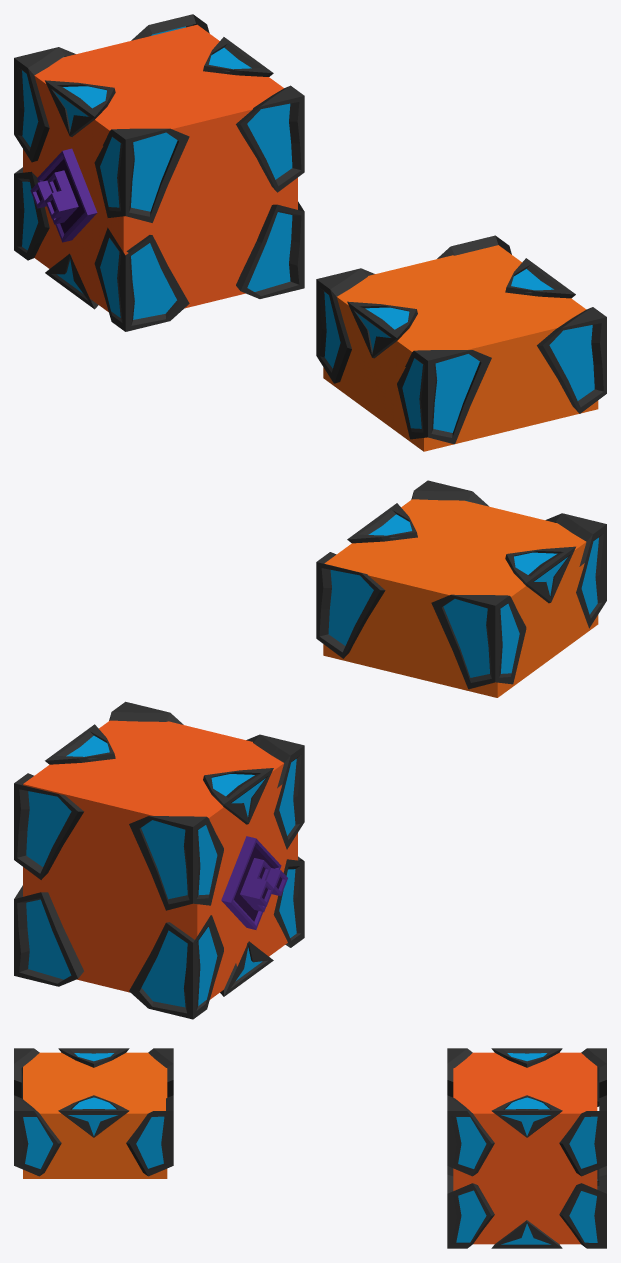
The model's file is cubes.fbx.
The picture shows the model from 3 angles, top to bottom: view 1: azimuth 30°, elevation 25°; view 2: azimuth 150°, elevation 25°; view 3: azimuth 270°, elevation 25°; orthographic projection. The views are drawn at different scales.
Visible parts, largest first — view 1: Cube, Cube.008, Cube.001, Cube.003, Cube.010; view 2: Cube, Cube.008, Cube.001, Cube.003, Cube.010; view 3: Cube, Cube.008, Cube.001, Cube.003.
Boxes of the visible parts, x1,y1,x2,y2 form: Cube: (23, 24, 297, 311); Cube.008: (14, 14, 304, 331); Cube.001: (323, 245, 598, 451); Cube.003: (316, 235, 606, 444); Cube.010: (30, 148, 97, 242); Cube: (23, 720, 297, 999); Cube.008: (14, 701, 304, 1019); Cube.001: (323, 499, 598, 697); Cube.003: (316, 480, 606, 689); Cube.010: (221, 836, 287, 929); Cube: (453, 1052, 597, 1244); Cube.008: (447, 1048, 606, 1248); Cube.001: (23, 1052, 167, 1178); Cube.003: (14, 1048, 173, 1176).
Size of the model in its own units: 234 by 211 by 822.
